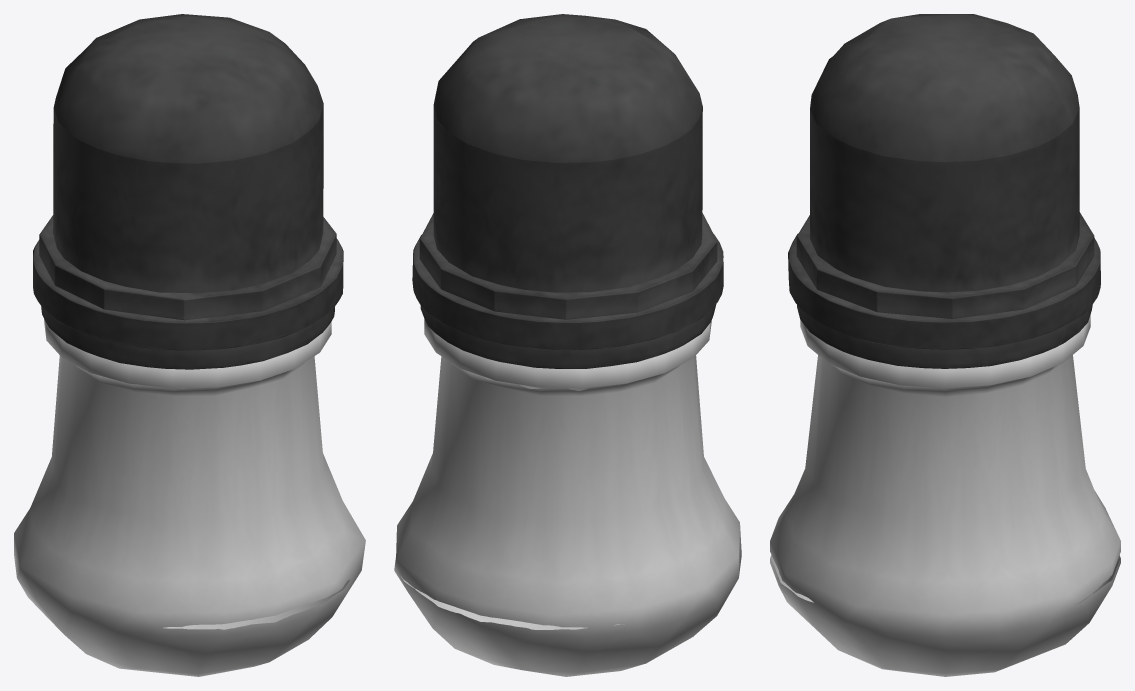
Rendered from SM_hanginglight_nowire_01c.fbx.
The picture shows the model from 3 angles, left to right: view 1: azimuth 30°, elevation 25°; view 2: azimuth 150°, elevation 25°; view 3: azimuth 270°, elevation 25°; orthographic projection.
Parts seen in each view (by area): view 1: SM_hanginglight_nowire_01c_LOD0; view 2: SM_hanginglight_nowire_01c_LOD0; view 3: SM_hanginglight_nowire_01c_LOD0.
Part boxes in pixels (x1,y1,x2,y2): SM_hanginglight_nowire_01c_LOD0: [14, 14, 365, 676]; SM_hanginglight_nowire_01c_LOD0: [394, 14, 741, 676]; SM_hanginglight_nowire_01c_LOD0: [770, 14, 1120, 676].
Bounding box in the file's own units: 11.08 × 11.05 × 21.19.
